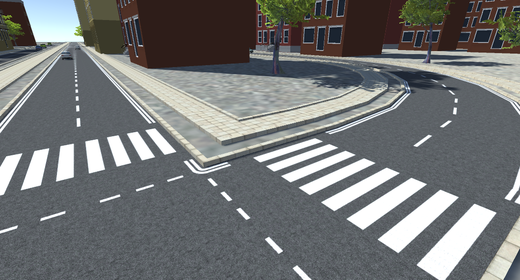centerstrip: (208, 177, 287, 258), (1, 192, 124, 240), (413, 81, 460, 151), (130, 172, 193, 199), (69, 61, 84, 129)
sidestripe: (94, 63, 156, 125), (1, 62, 54, 133), (328, 95, 404, 134), (183, 154, 233, 177)
